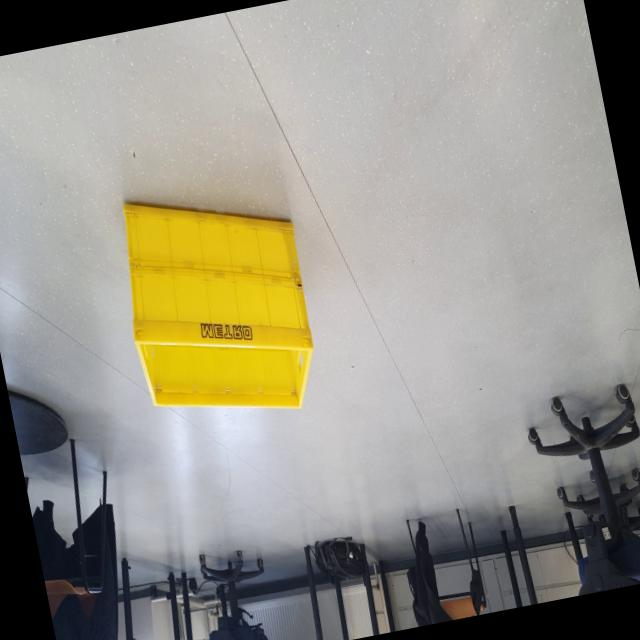box: (95, 163, 348, 442)
